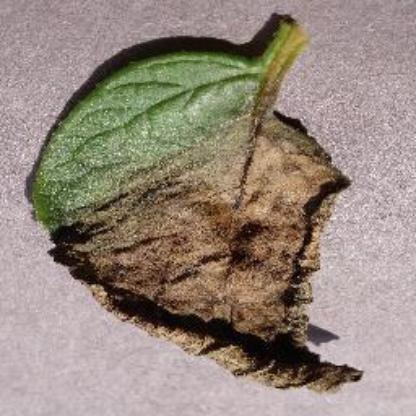Late-Blight: (20, 12, 378, 398)
